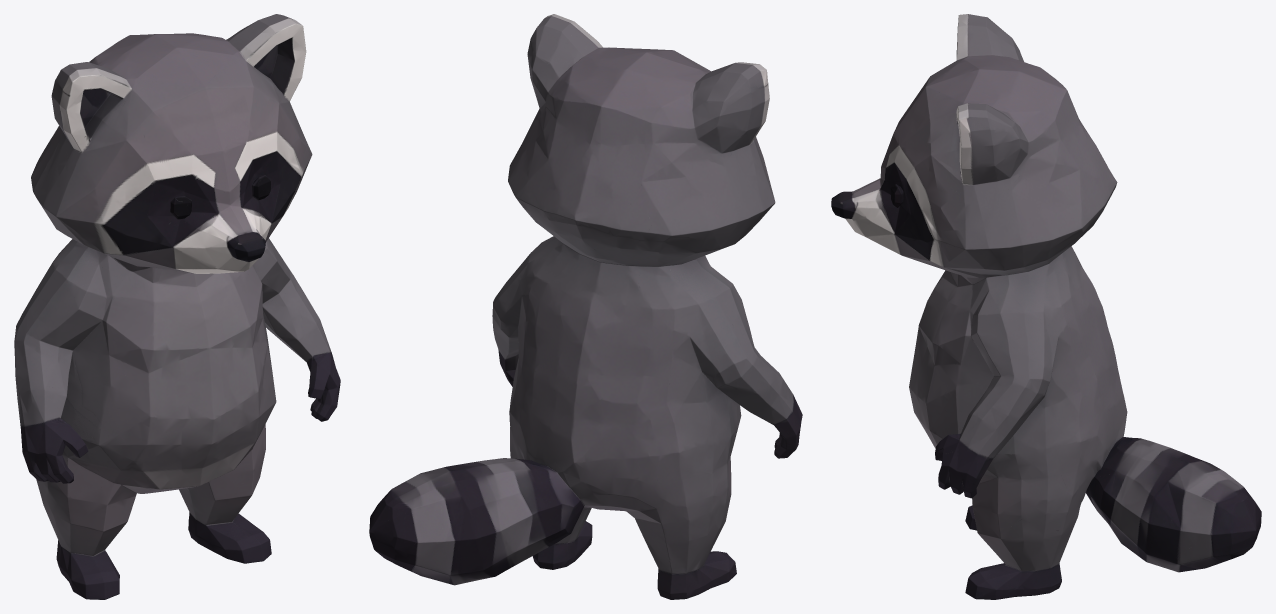
Rendered from Raccoon.fbx.
3 renders of one model, left to right at view 1: azimuth 30°, elevation 25°; view 2: azimuth 150°, elevation 25°; view 3: azimuth 270°, elevation 25°, orthographic. The views are drawn at different scales.
Parts seen in each view (by area): view 1: Mesh_0; view 2: Mesh_0; view 3: Mesh_0.
Boxes of the visible parts, x1,y1,x2,y2 form: Mesh_0: [14, 14, 340, 599]; Mesh_0: [369, 14, 802, 599]; Mesh_0: [831, 14, 1261, 599].
Size of the model in its own units: 116 by 190 by 150.
Materials: 1 (1 with a texture image).
